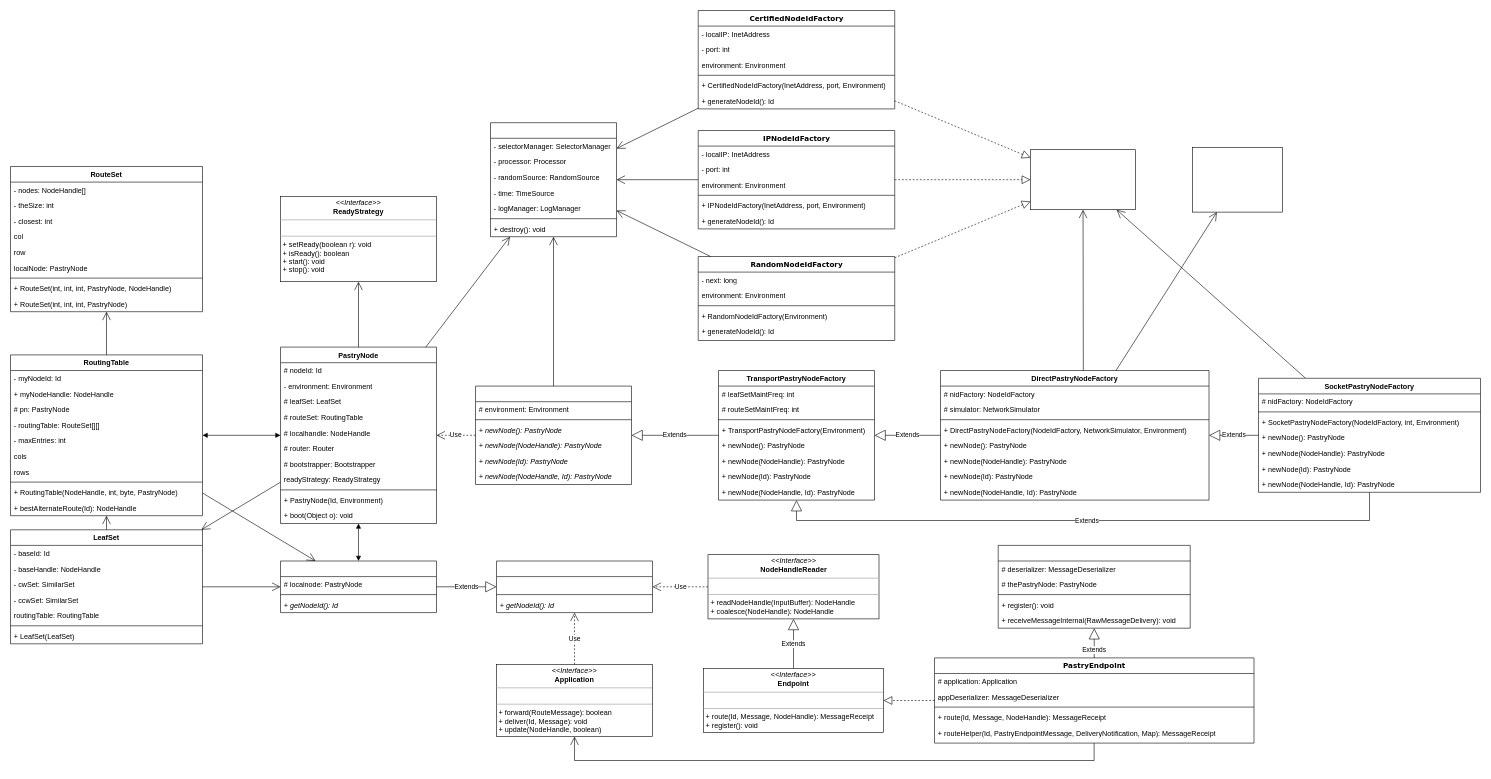
This 1491x779 diagram has some shape labels left out. The shapes that lost their labels are listed below. From the top down, each one's box as (x1, y1, x2, y2) in pixels, then its label:
(490, 122, 616, 237): Environment
(1030, 149, 1136, 210): <<Interface>> NodeIdFactory + generateNodeId(): Id
(1192, 147, 1282, 212): <<Interface>> NetworkSimulator + start(): void + stop(): void
(475, 386, 632, 484): PastryNodeFactory
(280, 560, 436, 613): NodeHandle
(496, 560, 652, 613): rice.p2p.commonapi.NodeHandle
(998, 545, 1190, 628): PastryAppl
